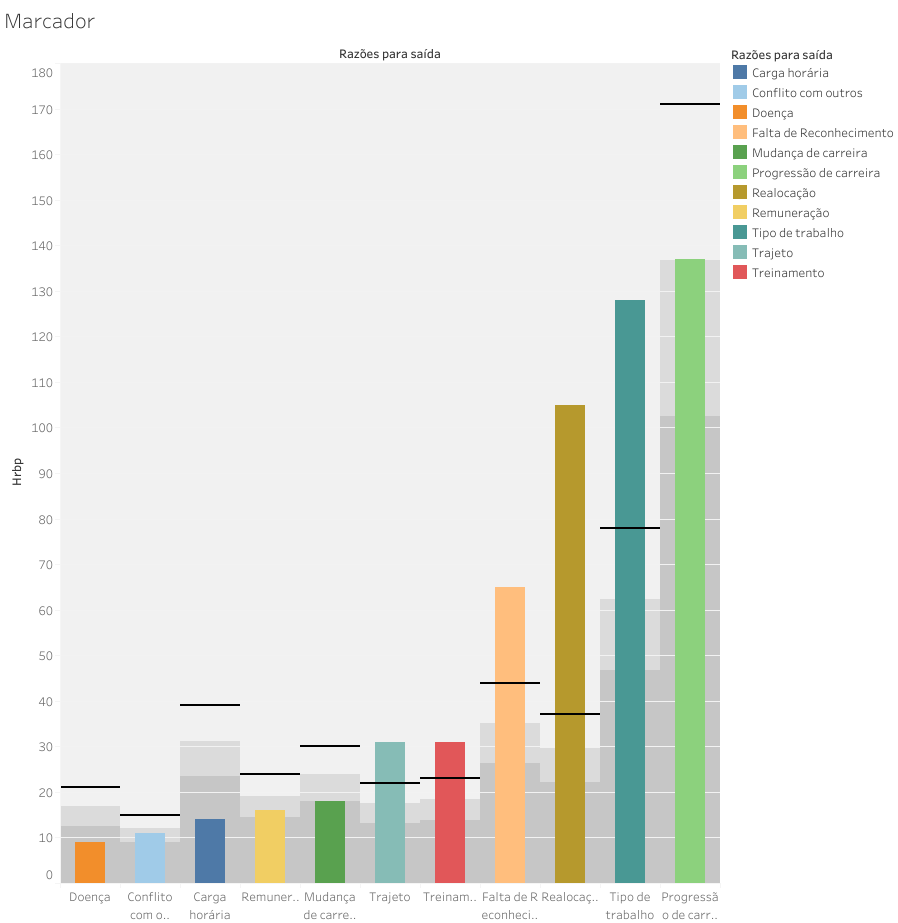

What the dashboard file says about the page in this screenshot:
{"tool":"tableau","page":{"name":"Painel 4","canvas":[1000,800],"ordinal":3},"visuals":[{"type":"worksheet","title":"Marcador","mark":"Automatic","rows":["HRBP"],"cols":["Razões para saída"],"box":[8,8,984,592]},{"type":"text","box":[8,600,731,192]},{"type":"legend","title":"Marcador","param":"[federated.05tfhy30yq1mx81fdck2e0lxcqmv].[none:Razões para saída:nk]","box":[739,600,253,192]}]}

Visuals, with their boxes on the page's 1000x800 design canvas (x1, y1, x2, y2). These are canvas units, not pixel positions in the 898x923 screenshot, which may show the page scaled, cropped or inside an application window:
"Marcador" worksheet: 8 8 992 600
text: 8 600 739 792
"Marcador" legend: 739 600 992 792
